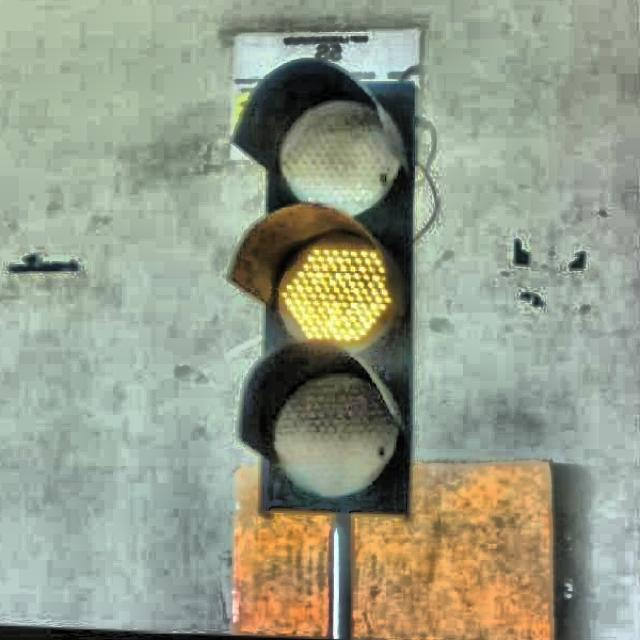yellow: (249, 80, 421, 514)
